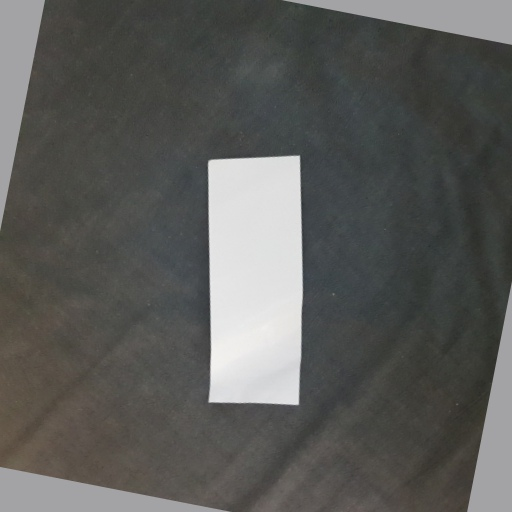Paper_2: (204, 149, 320, 415)
